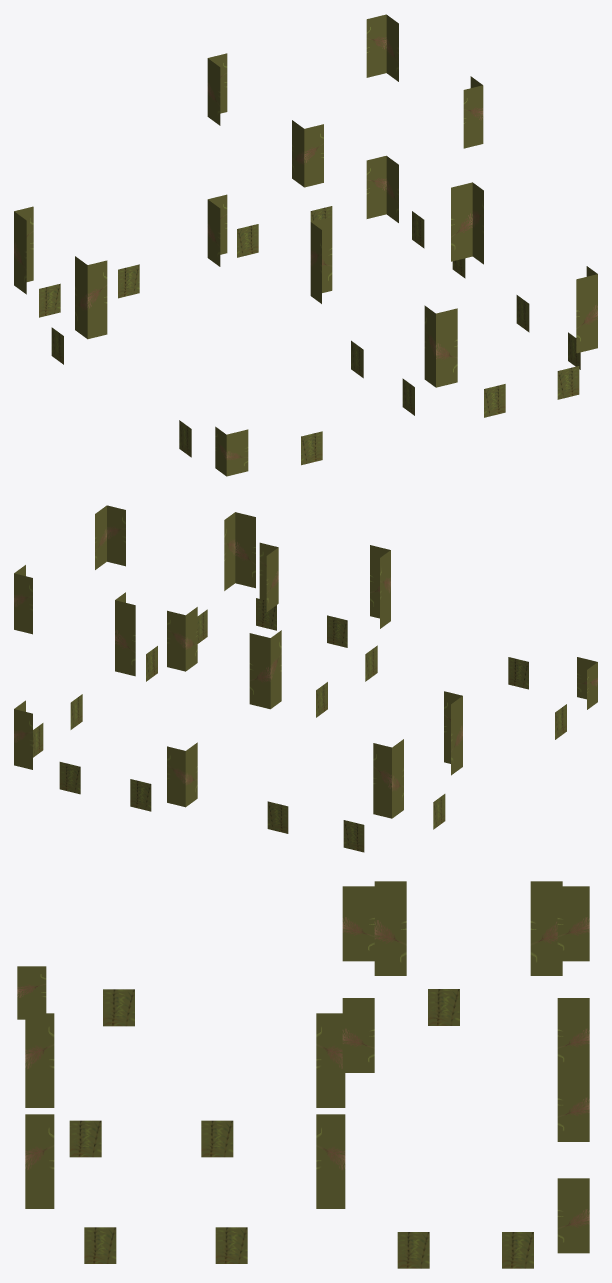
File: forge_f.dae
3 views of the same model, one above another, from view 1: azimuth 30°, elevation 25°; view 2: azimuth 150°, elevation 25°; view 3: azimuth 270°, elevation 25° (orthographic). The views are drawn at different scales.
Visible parts, largest first — view 1: forge_f; view 2: forge_f; view 3: forge_f.
Boxes of the visible parts, x1,y1,x2,y2 form: forge_f: (14, 14, 597, 476); forge_f: (14, 505, 597, 852); forge_f: (17, 881, 589, 1268).
Size of the model in its own units: 6.21 by 6.31 by 3.2.
1 material, 1 textured.
